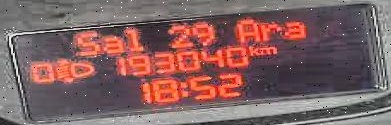0: (174, 50, 199, 70), (30, 62, 55, 82), (223, 46, 247, 66)
1: (114, 55, 127, 75), (139, 81, 151, 102)
2: (165, 23, 190, 48), (216, 73, 242, 96)
3: (153, 52, 175, 72)
4: (199, 49, 223, 66)
5: (187, 75, 215, 99)
8: (150, 77, 179, 102)
9: (189, 22, 214, 46), (126, 54, 150, 75)
X: (74, 31, 98, 56), (234, 19, 258, 41), (124, 27, 144, 52), (101, 34, 124, 53), (257, 22, 280, 40), (283, 21, 306, 38), (177, 80, 187, 97), (259, 45, 276, 53), (247, 45, 259, 55)
